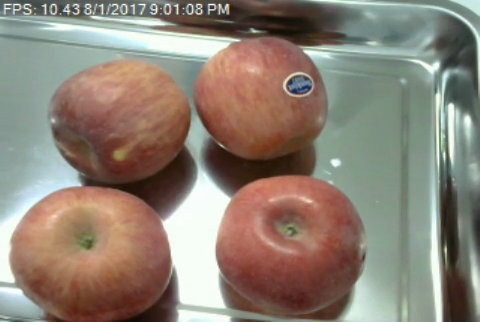Apple: (9, 185, 174, 322), (216, 174, 366, 314), (46, 58, 193, 186), (193, 37, 330, 161)
